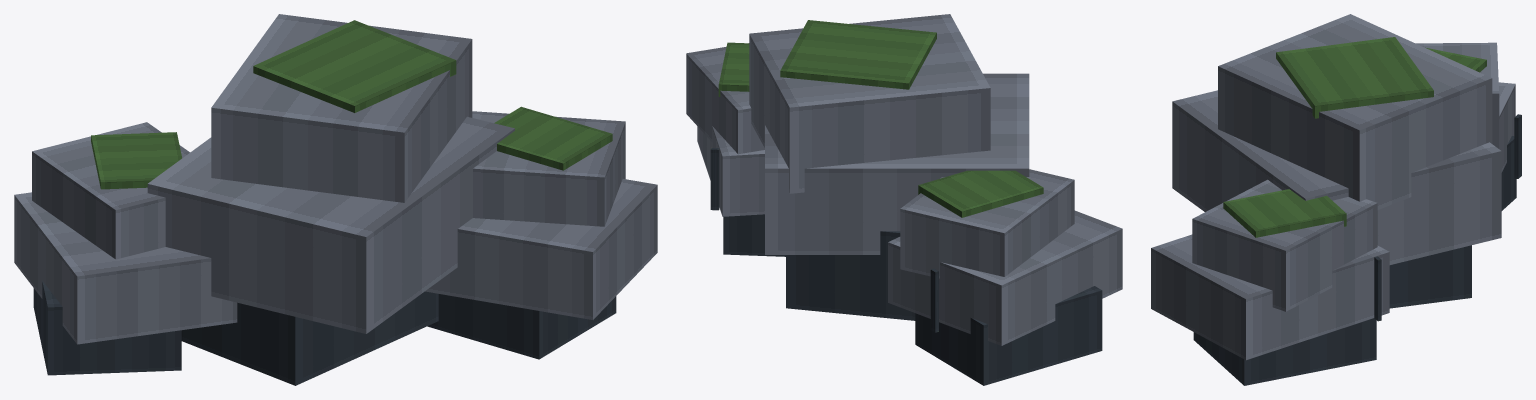
The model's file is rock_cluster_forest.gltf.
3 renders of one model, left to right at view 1: azimuth 30°, elevation 25°; view 2: azimuth 150°, elevation 25°; view 3: azimuth 270°, elevation 25°, orthographic. The views are drawn at different scales.
Visible parts, largest first — view 1: root_mesh; view 2: root_mesh; view 3: root_mesh.
Boxes of the visible parts, box(x1,y1,x2,y2) form: root_mesh: box(14, 14, 657, 385); root_mesh: box(686, 14, 1122, 385); root_mesh: box(1151, 14, 1521, 385).
Size of the model in its own units: 2.46 by 1.12 by 1.65.
1 material, 1 textured.
